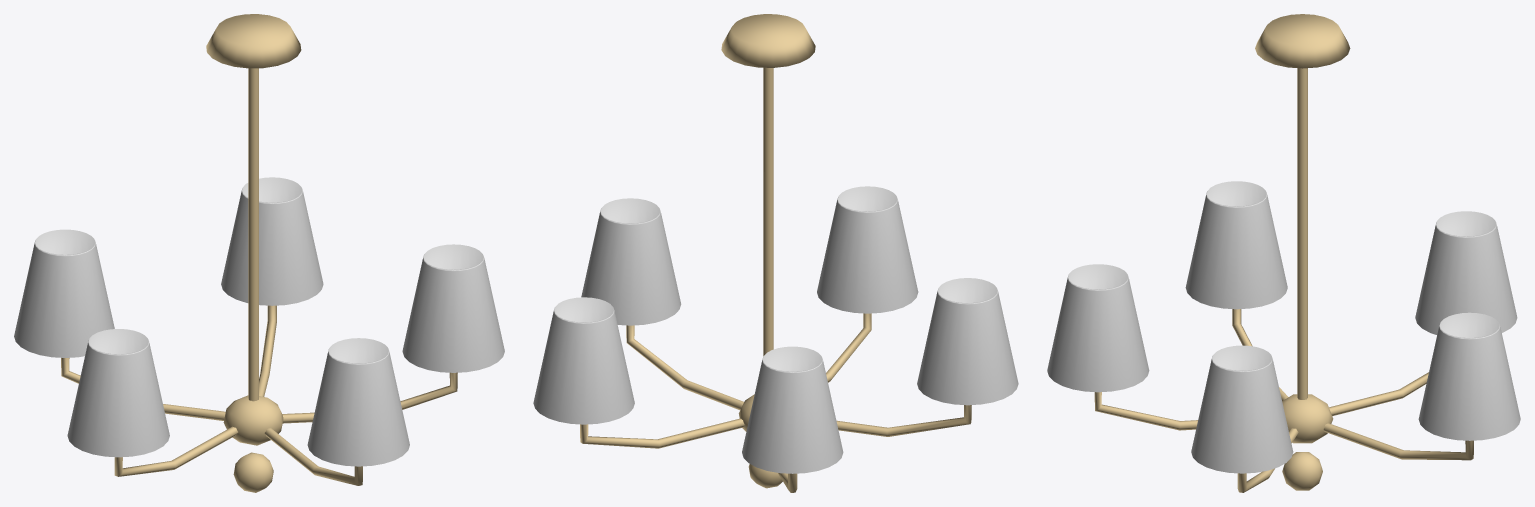
The model's file is Chandelier_01.glb.
3 renders of one model, left to right at view 1: azimuth 30°, elevation 25°; view 2: azimuth 150°, elevation 25°; view 3: azimuth 270°, elevation 25°, orthographic.
Parts seen in each view (by area): view 1: Chandelier_01_shade, Chandelier_01_shade_1, Chandelier_01_shade_2, Chandelier_01_shade_3, Chandelier_01_shade_4, Chandelier_01_canopy, Chandelier_01_rod, Chandelier_01_hub, Chandelier_01_arm_2, Chandelier_01_finial, Chandelier_01_arm_1, Chandelier_01_arm (+2 smaller); view 2: Chandelier_01_shade_4, Chandelier_01_shade_1, Chandelier_01_shade_3, Chandelier_01_shade_2, Chandelier_01_shade, Chandelier_01_canopy, Chandelier_01_rod, Chandelier_01_arm_4, Chandelier_01_arm, Chandelier_01_arm_2, Chandelier_01_arm_1; view 3: Chandelier_01_shade, Chandelier_01_shade_1, Chandelier_01_shade_2, Chandelier_01_shade_4, Chandelier_01_shade_3, Chandelier_01_canopy, Chandelier_01_rod, Chandelier_01_hub, Chandelier_01_arm_4, Chandelier_01_finial, Chandelier_01_arm_1, Chandelier_01_arm_3 (+1 smaller).
Boxes of the visible parts, <box> form: Chandelier_01_shade: <box>402,244,504,372</box>; Chandelier_01_shade_1: <box>307,338,409,466</box>; Chandelier_01_shade_2: <box>67,329,169,457</box>; Chandelier_01_shade_3: <box>14,229,114,357</box>; Chandelier_01_shade_4: <box>221,177,323,305</box>; Chandelier_01_canopy: <box>206,14,301,68</box>; Chandelier_01_rod: <box>248,68,258,401</box>; Chandelier_01_hub: <box>223,395,283,445</box>; Chandelier_01_arm_2: <box>114,426,238,476</box>; Chandelier_01_finial: <box>233,452,273,492</box>; Chandelier_01_arm_1: <box>264,428,362,485</box>; Chandelier_01_arm: <box>282,372,457,423</box>; Chandelier_01_shade_4: <box>533,297,634,424</box>; Chandelier_01_shade_1: <box>817,186,918,313</box>; Chandelier_01_shade_3: <box>742,346,843,473</box>; Chandelier_01_shade_2: <box>917,278,1018,405</box>; Chandelier_01_shade: <box>581,198,681,325</box>; Chandelier_01_canopy: <box>721,14,815,67</box>; Chandelier_01_rod: <box>763,67,773,356</box>; Chandelier_01_arm_4: <box>580,418,744,448</box>; Chandelier_01_arm: <box>626,325,743,410</box>; Chandelier_01_arm_2: <box>836,405,971,436</box>; Chandelier_01_arm_1: <box>826,313,871,382</box>; Chandelier_01_shade: <box>1191,345,1293,473</box>; Chandelier_01_shade_1: <box>1047,264,1149,392</box>; Chandelier_01_shade_2: <box>1185,181,1287,309</box>; Chandelier_01_shade_4: <box>1418,312,1520,440</box>; Chandelier_01_shade_3: <box>1415,211,1517,334</box>; Chandelier_01_canopy: <box>1255,14,1350,68</box>; Chandelier_01_rod: <box>1297,68,1307,399</box>; Chandelier_01_hub: <box>1282,394,1333,443</box>; Chandelier_01_arm_4: <box>1323,423,1473,460</box>; Chandelier_01_finial: <box>1282,452,1322,490</box>; Chandelier_01_arm_1: <box>1094,392,1197,430</box>; Chandelier_01_arm_3: <box>1329,372,1428,415</box>.
Size of the model in its own units: 0.7206 by 0.745 by 0.6951.
